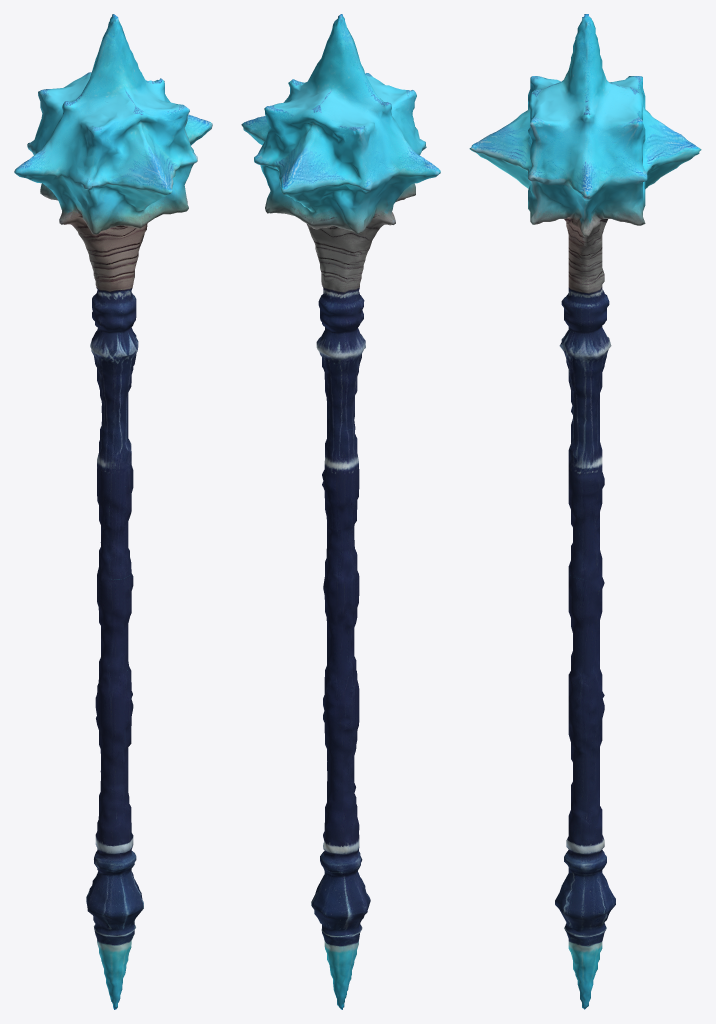
Rendered from ice_mace_staff.glb.
3 views of the same model, side by side, from view 1: azimuth 30°, elevation 25°; view 2: azimuth 150°, elevation 25°; view 3: azimuth 270°, elevation 25° (orthographic).
Size of the model in its own units: 0.3953 by 1.91 by 0.4031.
Materials: 1 (1 with a texture image).
